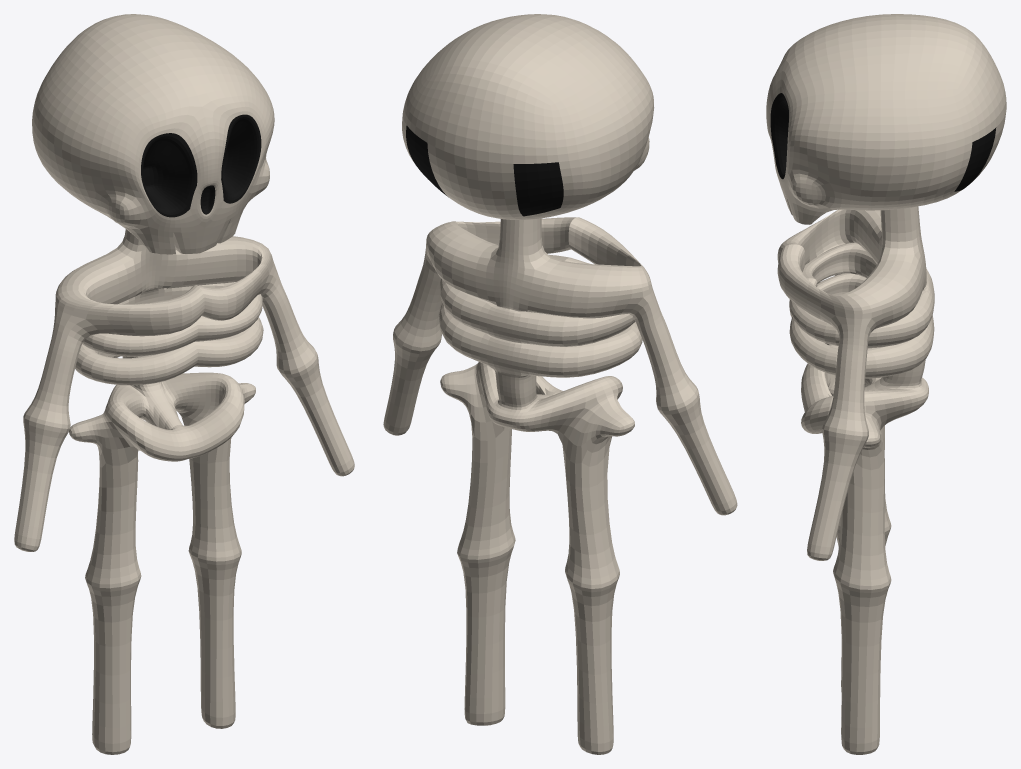
Rendered from skeleton.fbx.
3 renders of one model, left to right at view 1: azimuth 30°, elevation 25°; view 2: azimuth 150°, elevation 25°; view 3: azimuth 270°, elevation 25°, orthographic. The views are drawn at different scales.
Visible parts, largest first — view 1: Cube, Cube.001; view 2: Cube, Cube.001; view 3: Cube, Cube.001.
Boxes of the visible parts, x1,y1,x2,y2 form: Cube: (14,229,354,754); Cube.001: (32,14,274,254); Cube: (383,217,737,754); Cube.001: (402,14,654,219); Cube: (777,206,934,754); Cube.001: (766,14,1006,224).
Bounding box in the file's own units: 311 × 611 × 190.
